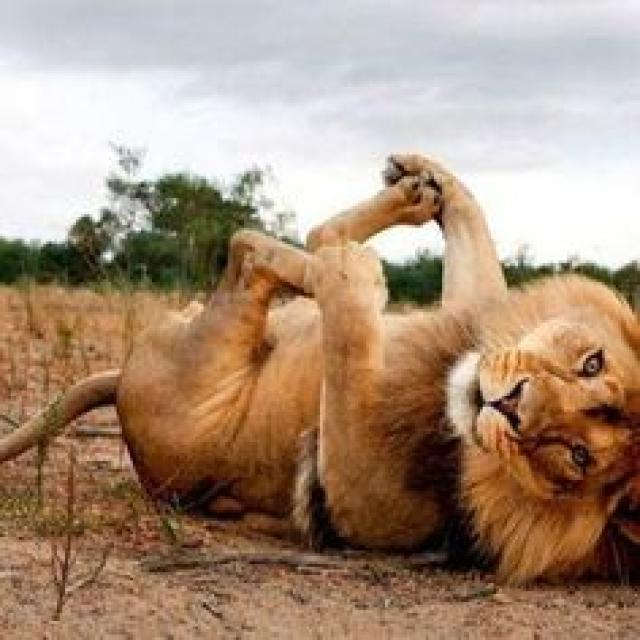lions: (10, 99, 640, 614)
